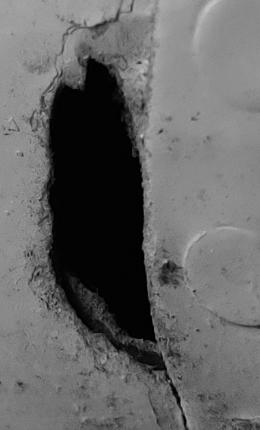crack: (1, 0, 260, 430)
